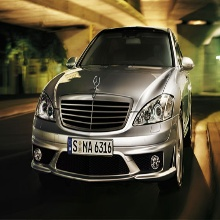no damage: (31, 26, 196, 191)
